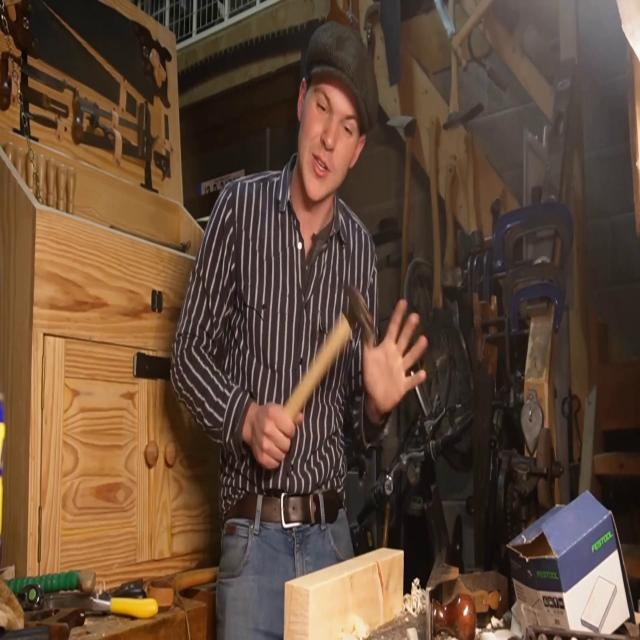hammer: (283, 282, 374, 418)
